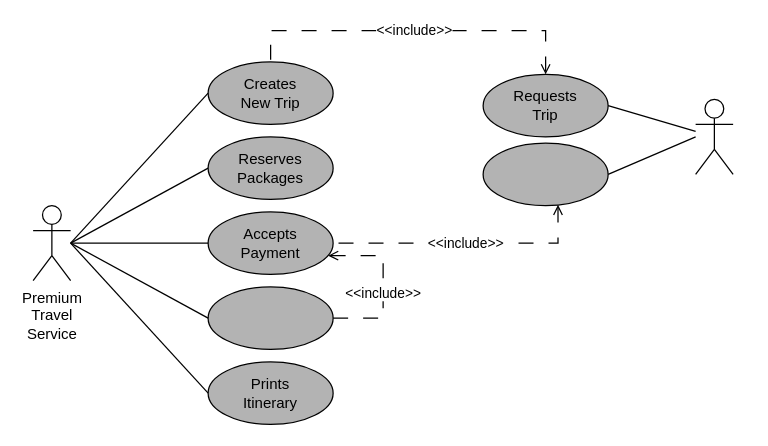
Some shapes in this 768 by 446 pixel diagram are drawn without their labels. The centre of each missing label's shape, as x and y in pixels:
Customer: the point at 713,136
Generates Itinerary: the point at 270,317
Makes Payment: the point at 545,174
